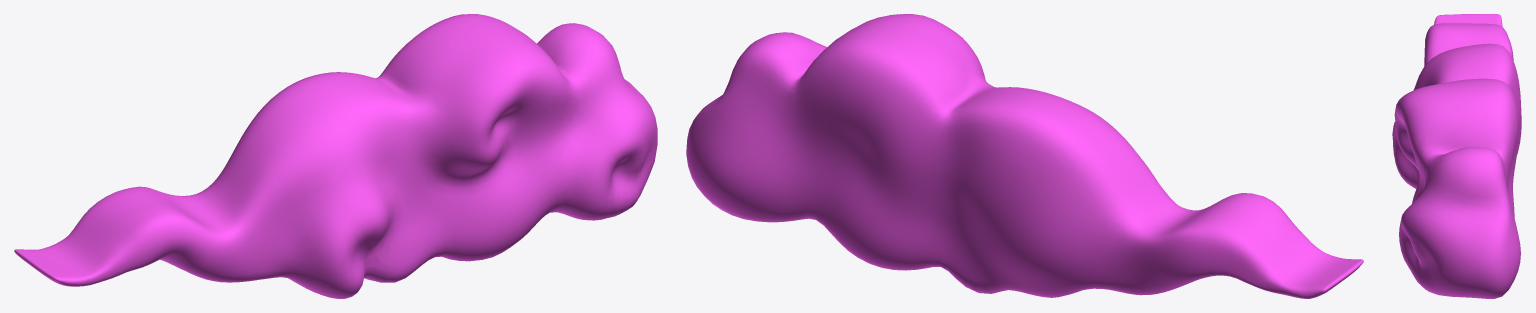
The model's file is pembik.fbx.
3 renders of one model, left to right at view 1: azimuth 30°, elevation 25°; view 2: azimuth 150°, elevation 25°; view 3: azimuth 270°, elevation 25°, orthographic. The views are drawn at different scales.
Visible parts, largest first — view 1: CLOUD_LOW POLLY; view 2: CLOUD_LOW POLLY; view 3: CLOUD_LOW POLLY.
Part boxes in pixels (box(x1,y1,x2,y2)): CLOUD_LOW POLLY: box(14, 14, 657, 298); CLOUD_LOW POLLY: box(686, 14, 1363, 298); CLOUD_LOW POLLY: box(1392, 14, 1521, 298).
Size of the model in its own units: 82465 by 27850 by 18349.
